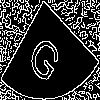G: (25, 25, 68, 87)
